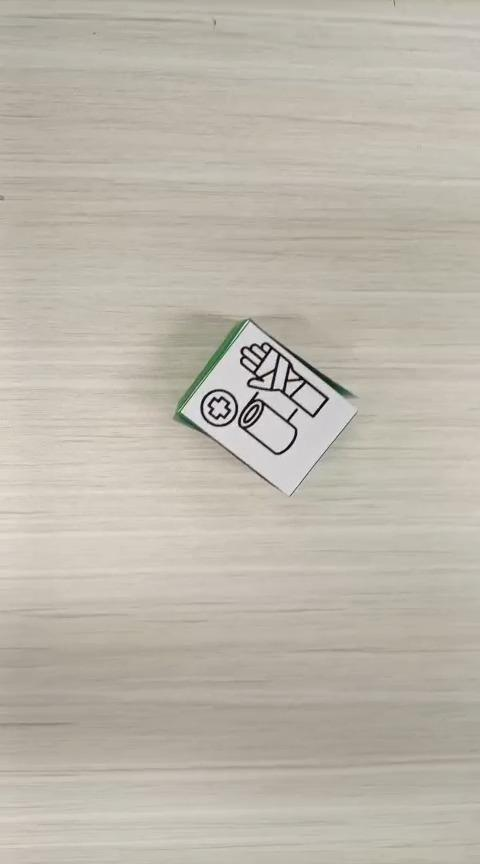Bandages: (173, 316, 358, 497)
